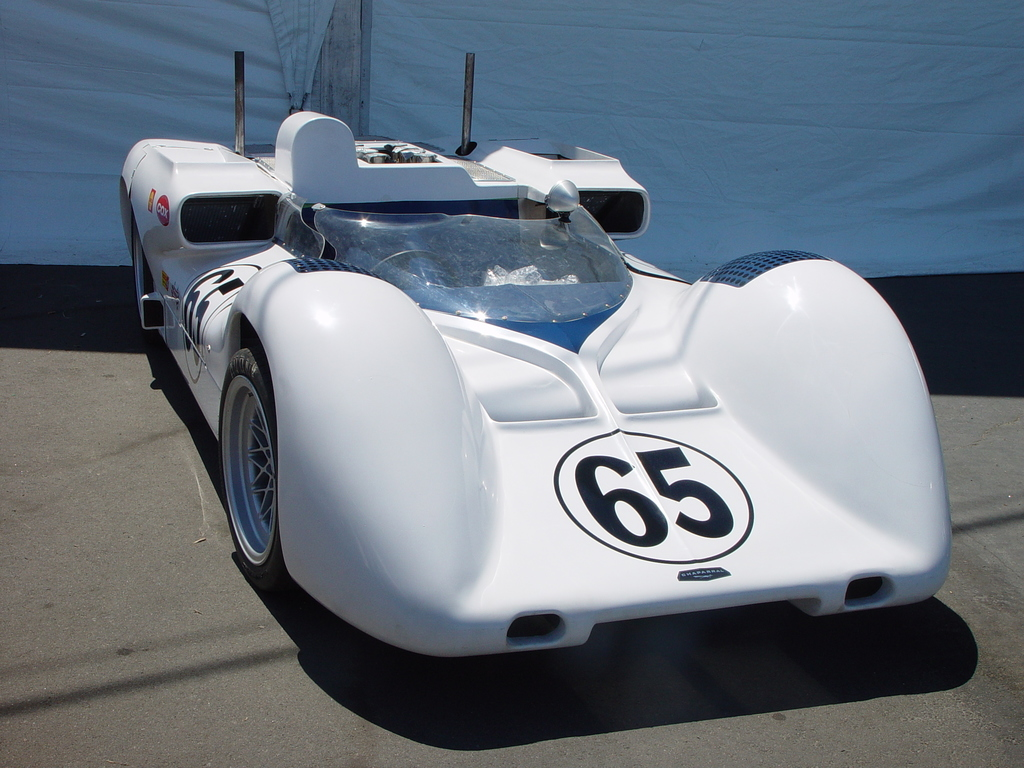mobil: (153, 106, 959, 660)
